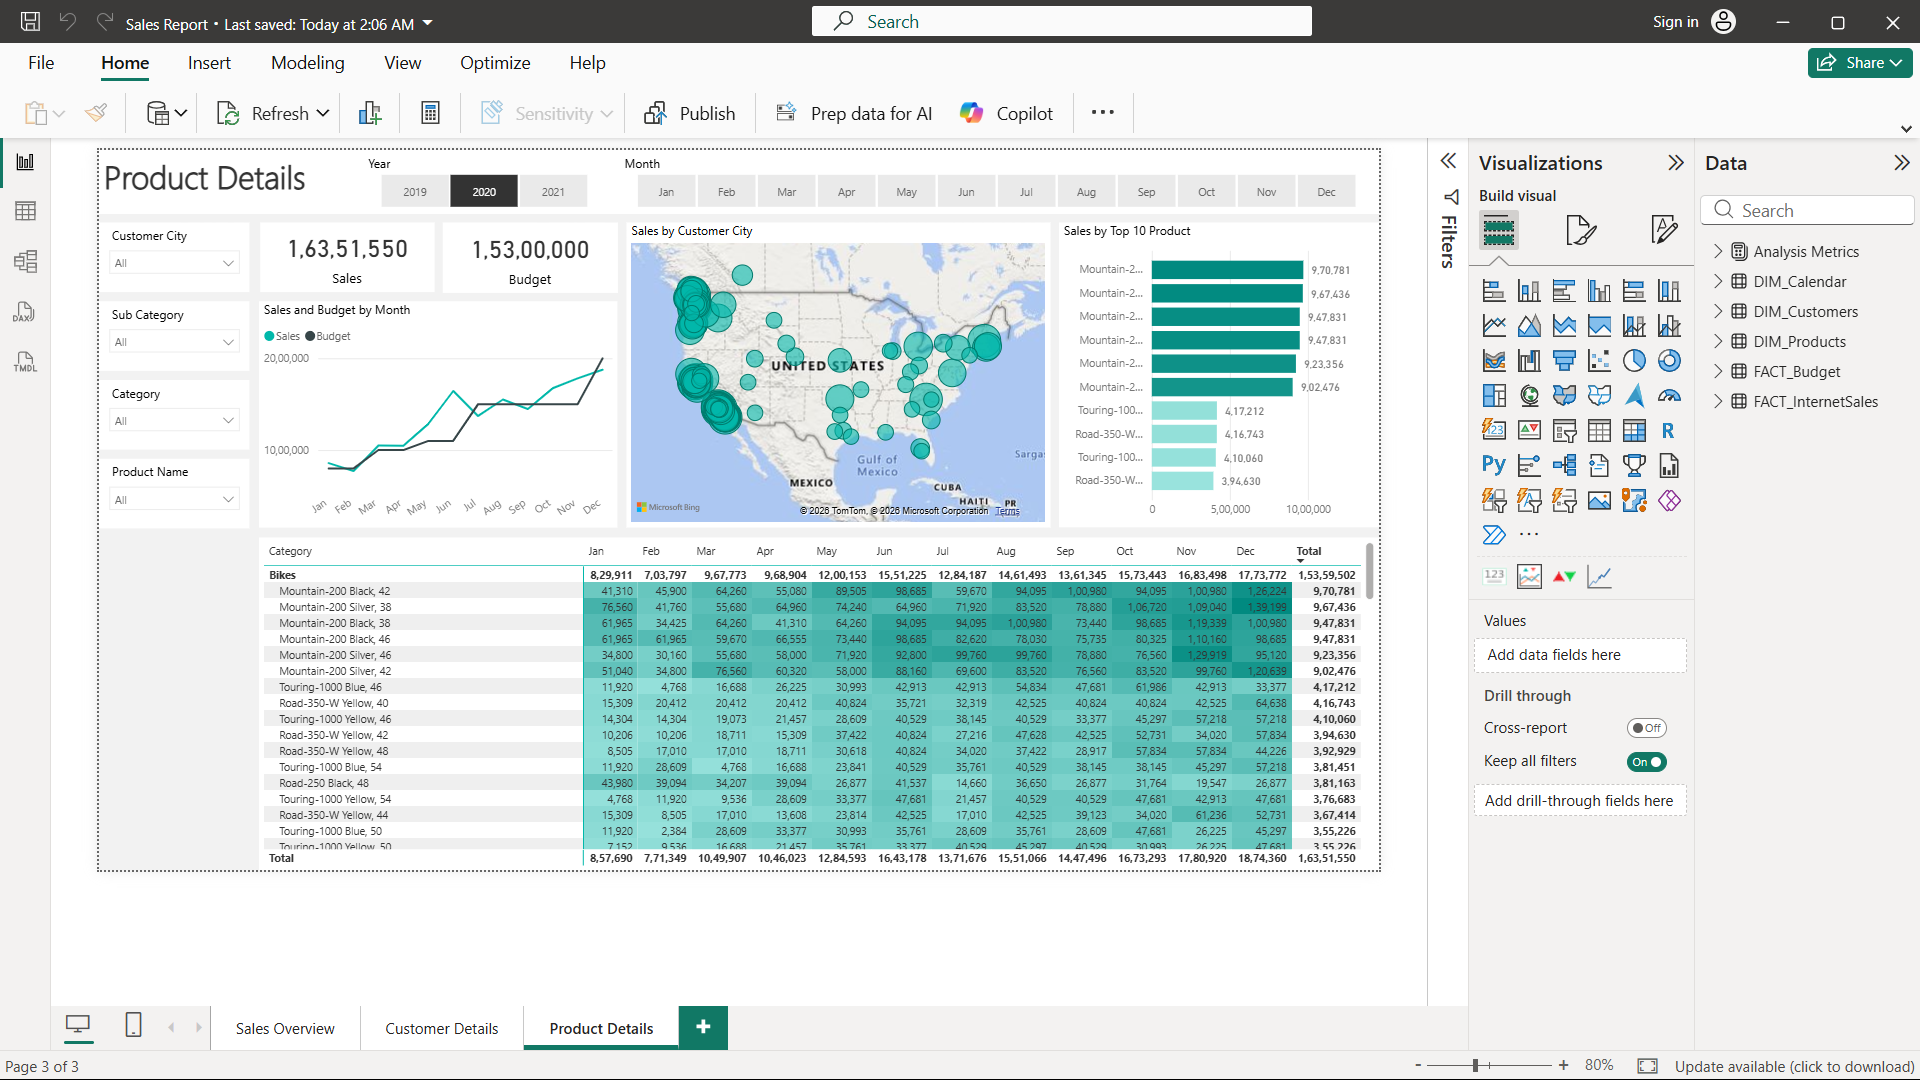

What the dashboard file says about the page in this screenshot:
{"tool":"powerbi","page":{"name":"Product Details","canvas":[1280,720],"ordinal":2},"visuals":[{"type":"textbox","box":[0,0,1280,64],"z":0},{"type":"slicer","fields":{"Values":["DIM_Calendar.Year"]},"box":[256,0,256,64],"z":1000},{"type":"slicer","fields":{"Values":["DIM_Calendar.MonthShort"]},"box":[512,0,768,64],"z":2000},{"type":"slicer","fields":{"Values":["DIM_Customers.Customer City"]},"box":[0,73,150.5,69.3],"z":3000},{"type":"slicer","fields":{"Values":["DIM_Products.Product Category"]},"box":[0,229.9,150.5,69.3],"z":4000},{"type":"slicer","fields":{"Values":["DIM_Products.Product Name"]},"box":[0,308.4,150.5,69.3],"z":5000},{"type":"slicer","fields":{"Values":["DIM_Products.Sub Category"]},"box":[0,151.4,150.5,69.3],"z":6000},{"type":"lineChart","fields":{"Category":["DIM_Calendar.MonthShort"],"Y":["Analysis Metrics.Sales","Analysis Metrics.Budget"]},"box":[159.8,151.8,358.7,226.4],"z":7000},{"type":"card","fields":{"Values":["Analysis Metrics.Sales"]},"box":[160.7,72.8,174,69.2],"z":8000},{"type":"map","fields":{"Category":["DIM_Customers.Customer City"],"Size":["Analysis Metrics.Sales"]},"box":[527.3,72.8,423.5,304.5],"z":9000},{"type":"card","fields":{"Values":["Analysis Metrics.Budget"]},"box":[343.6,72.8,174.9,70.1],"z":10000},{"type":"pivotTable","fields":{"Columns":["DIM_Calendar.MonthShort"],"Rows":["DIM_Products.Product Category","DIM_Products.Product Name"],"Values":["Analysis Metrics.Sales"]},"box":[159.8,387.1,1120.4,332.9],"z":11000},{"type":"clusteredBarChart","title":"Sales by Top 10 Product","fields":{"Category":["DIM_Products.Product Name"],"Y":["Analysis Metrics.Sales"]},"box":[959.7,72.8,320.5,304.5],"z":12000}]}

Visuals, with their boxes on the page's 1280x720 design canvas (x1, y1, x2, y2). These are canvas units, not pixel positions in the 1920x1080 screenshot, which may show the page scaled, cropped or inside an application window:
textbox: {"x1": 0, "y1": 0, "x2": 1280, "y2": 64}
slicer - DIM_Calendar.Year: {"x1": 256, "y1": 0, "x2": 512, "y2": 64}
slicer - DIM_Calendar.MonthShort: {"x1": 512, "y1": 0, "x2": 1280, "y2": 64}
slicer - DIM_Customers.Customer City: {"x1": 0, "y1": 73, "x2": 150, "y2": 142}
slicer - DIM_Products.Product Category: {"x1": 0, "y1": 230, "x2": 150, "y2": 299}
slicer - DIM_Products.Product Name: {"x1": 0, "y1": 308, "x2": 150, "y2": 378}
slicer - DIM_Products.Sub Category: {"x1": 0, "y1": 151, "x2": 150, "y2": 221}
lineChart - DIM_Calendar.MonthShort x Analysis Metrics.Sales: {"x1": 160, "y1": 152, "x2": 518, "y2": 378}
card - Analysis Metrics.Sales: {"x1": 161, "y1": 73, "x2": 335, "y2": 142}
map - DIM_Customers.Customer City x Analysis Metrics.Sales: {"x1": 527, "y1": 73, "x2": 951, "y2": 377}
card - Analysis Metrics.Budget: {"x1": 344, "y1": 73, "x2": 518, "y2": 143}
pivotTable - DIM_Calendar.MonthShort x DIM_Products.Product Category: {"x1": 160, "y1": 387, "x2": 1280, "y2": 720}
"Sales by Top 10 Product" clusteredBarChart: {"x1": 960, "y1": 73, "x2": 1280, "y2": 377}
